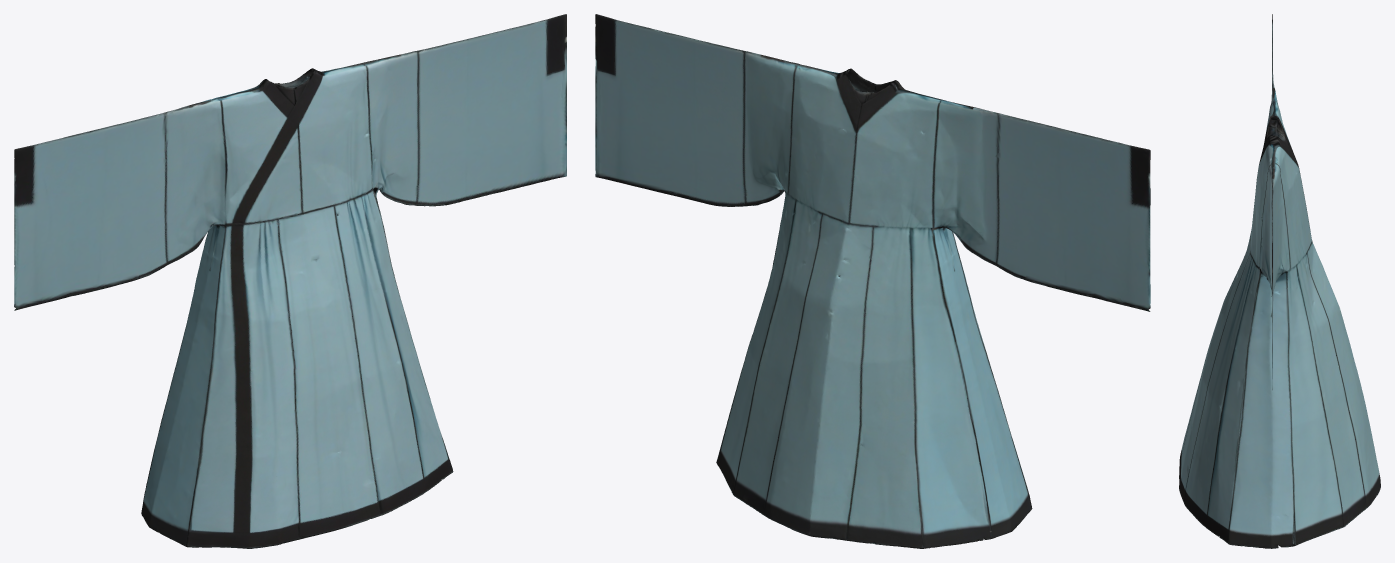
3 renders of one model, left to right at view 1: azimuth 30°, elevation 25°; view 2: azimuth 150°, elevation 25°; view 3: azimuth 270°, elevation 25°, orthographic. The views are drawn at different scales.
Size of the model in its own units: 2 by 1.45 by 0.7245.
Materials: 1 (1 with a texture image).
